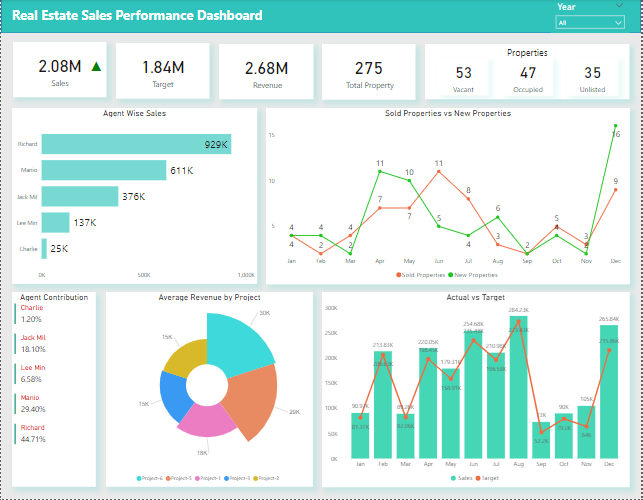

What the dashboard file says about the page in this screenshot:
{"tool":"powerbi","page":{"name":"Dashboard 1","canvas":[1320,1032],"ordinal":0},"visuals":[{"type":"shape","box":[0,0,1320.9,70.3],"z":0},{"type":"textbox","box":[7.6,9.5,545.6,72.2],"z":1000},{"type":"card","fields":{"Values":["Real Estate Data.Sales"]},"box":[24.1,89.7,193.1,113.8],"z":2000},{"type":"card","fields":{"Values":["Real Estate Data.Target"]},"box":[236.8,90.8,193.1,114.9],"z":3000},{"type":"card","fields":{"Values":["Real Estate Data.Revenue"]},"box":[449.4,92,195.5,113.6],"z":4000},{"type":"card","fields":{"Values":["Real Estate Data.Total Property"]},"box":[663.2,92,193.1,114.9],"z":5000},{"type":"textbox","box":[875.6,92.2,422.2,114.4],"z":6000},{"type":"card","fields":{"Values":["Real Estate Data.Property Status"]},"box":[901.1,121.1,104.4,76.7],"z":7000},{"type":"card","fields":{"Values":["DimDate.Occupied"]},"box":[1035.6,121.1,103.3,77.8],"z":8000},{"type":"card","fields":{"Values":["DimDate.Unlisted"]},"box":[1167.8,121.1,105.6,77.8],"z":9000},{"type":"barChart","title":"Agent Wise Sales","fields":{"Category":["Real Estate Data.Agent"],"Y":["Real Estate Data.Sales"]},"box":[24,226,524,362],"z":10000},{"type":"lineChart","title":"Sold Properties vs New Properties","fields":{"Y":["DimDate.Sold Properties","DimDate.New Properties"],"Category":["DimDate.Month Name"]},"box":[565,226.7,733.3,361.7],"z":11000},{"type":"multiRowCard","title":"Agent Contribution","fields":{"Values":["Real Estate Data.Agent","DimDate.Agent Contribution"]},"box":[22.7,604.8,173.4,402.5],"z":12000},{"type":"lineStackedColumnComboChart","title":"Actual vs Target","fields":{"Category":["DimDate.Month Name"],"Y":["Real Estate Data.Sales"],"Y2":["Real Estate Data.Target"]},"box":[660,604,638,404],"z":13000},{"type":"slicer","fields":{"Values":["DimDate.Date.Variation.Date Hierarchy.Year"]},"box":[1135.6,0,162.1,70.1],"z":14000},{"type":"card","fields":{"Values":["DimDate.ICON Sales"]},"box":[134,85.4,123.7,106.7],"z":15000},{"type":"pieChart","fields":{"Category":["Real Estate Data.Project Name"],"Y":["Real Estate Data.Revenue"]},"box":[206,604,440,404],"z":16000}]}

Visuals, with their boxes in screenshot pixels (x1, y1, x2, y2), scaled from the page's 1320x1032 canvas onto the 643x500 screenshot:
shape: (0, 0, 642, 34)
textbox: (4, 5, 269, 40)
card - Real Estate Data.Sales: (12, 43, 106, 99)
card - Real Estate Data.Target: (115, 44, 209, 100)
card - Real Estate Data.Revenue: (219, 45, 314, 100)
card - Real Estate Data.Total Property: (323, 45, 417, 100)
textbox: (427, 45, 632, 100)
card - Real Estate Data.Property Status: (439, 59, 490, 96)
card - DimDate.Occupied: (504, 59, 555, 96)
card - DimDate.Unlisted: (569, 59, 620, 96)
"Agent Wise Sales" barChart: (12, 109, 267, 285)
"Sold Properties vs New Properties" lineChart: (275, 110, 632, 285)
"Agent Contribution" multiRowCard: (11, 293, 96, 488)
"Actual vs Target" lineStackedColumnComboChart: (322, 293, 632, 488)
slicer - DimDate.Date.Variation.Date Hierarchy.Year: (553, 0, 632, 34)
card - DimDate.ICON Sales: (65, 41, 126, 93)
pieChart - Real Estate Data.Project Name x Real Estate Data.Revenue: (100, 293, 315, 488)
